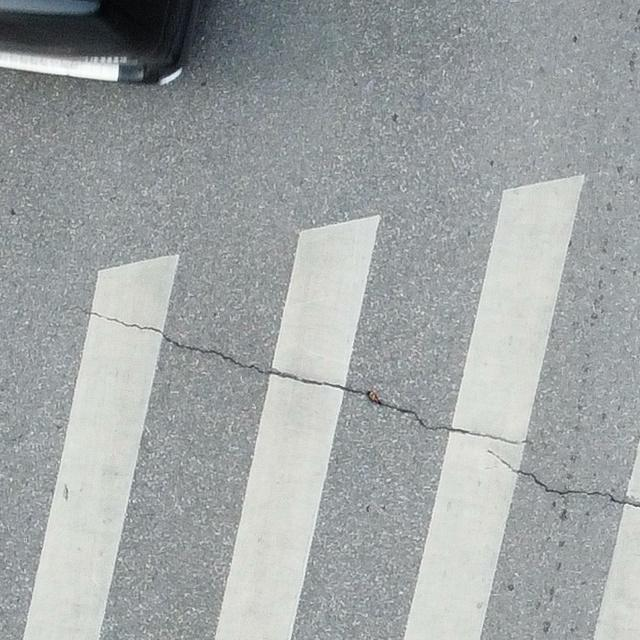TransverseCrack: (70, 304, 533, 445), (489, 448, 640, 508)
